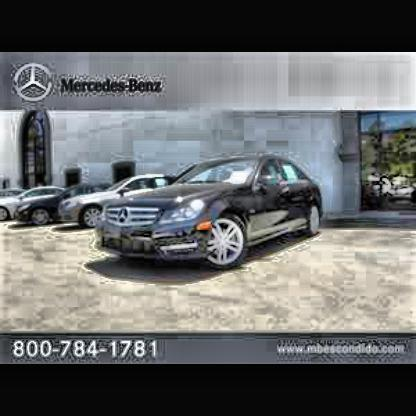Mercedes-Benz C-Class Sedan 2012: (97, 157, 328, 276)
